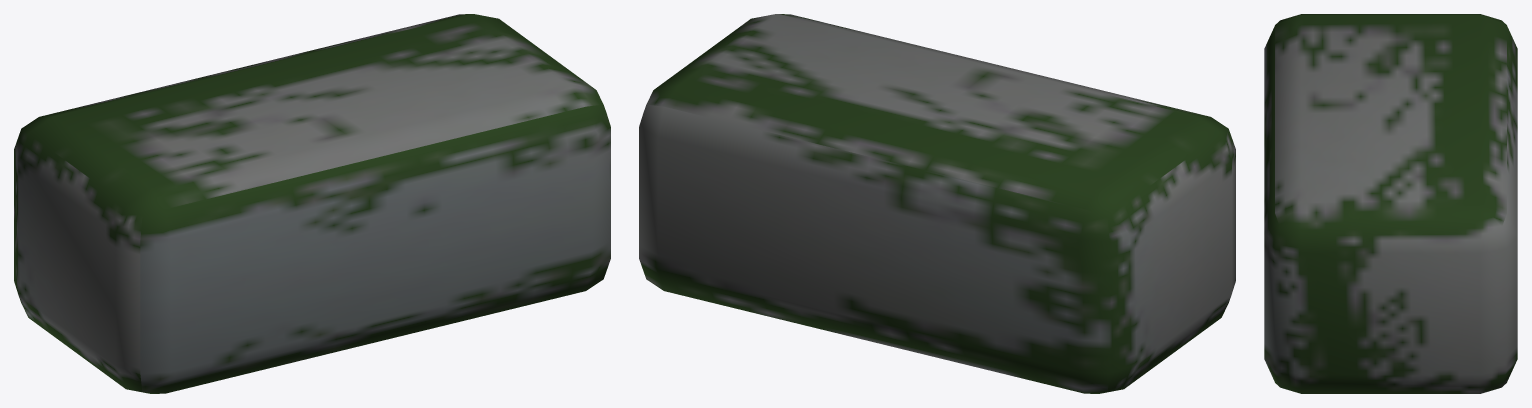
The model's file is Stoneblock.fbx.
3 views of the same model, side by side, from view 1: azimuth 30°, elevation 25°; view 2: azimuth 150°, elevation 25°; view 3: azimuth 270°, elevation 25° (orthographic). The views are drawn at different scales.
Parts seen in each view (by area): view 1: Stoneblock; view 2: Stoneblock; view 3: Stoneblock.
Part boxes in pixels (x1=…): Stoneblock: x1=14, y1=14, x2=610, y2=393; Stoneblock: x1=639, y1=14, x2=1235, y2=393; Stoneblock: x1=1264, y1=14, x2=1517, y2=393.
Size of the model in its own units: 112 by 44.7 by 54.34.
Materials: 1 (1 with a texture image).
